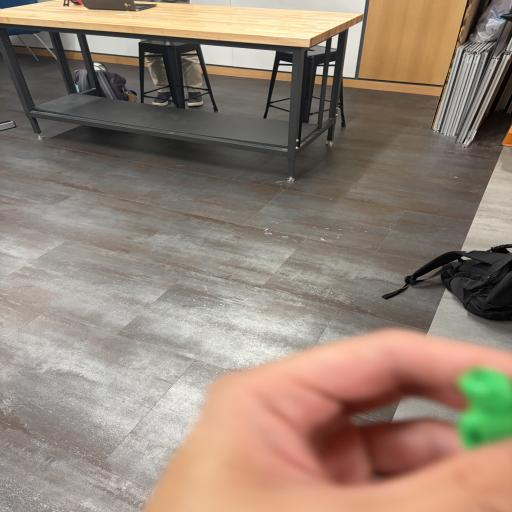Green-Lego: (457, 367, 512, 449)
